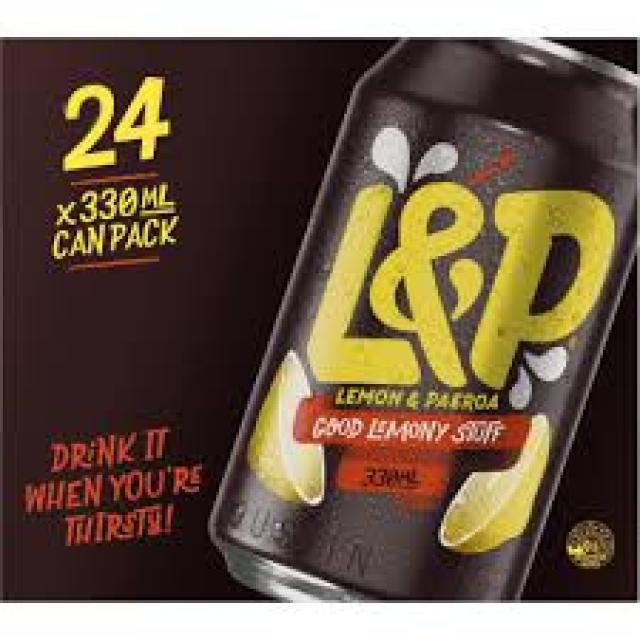Cans: (208, 42, 634, 594)
